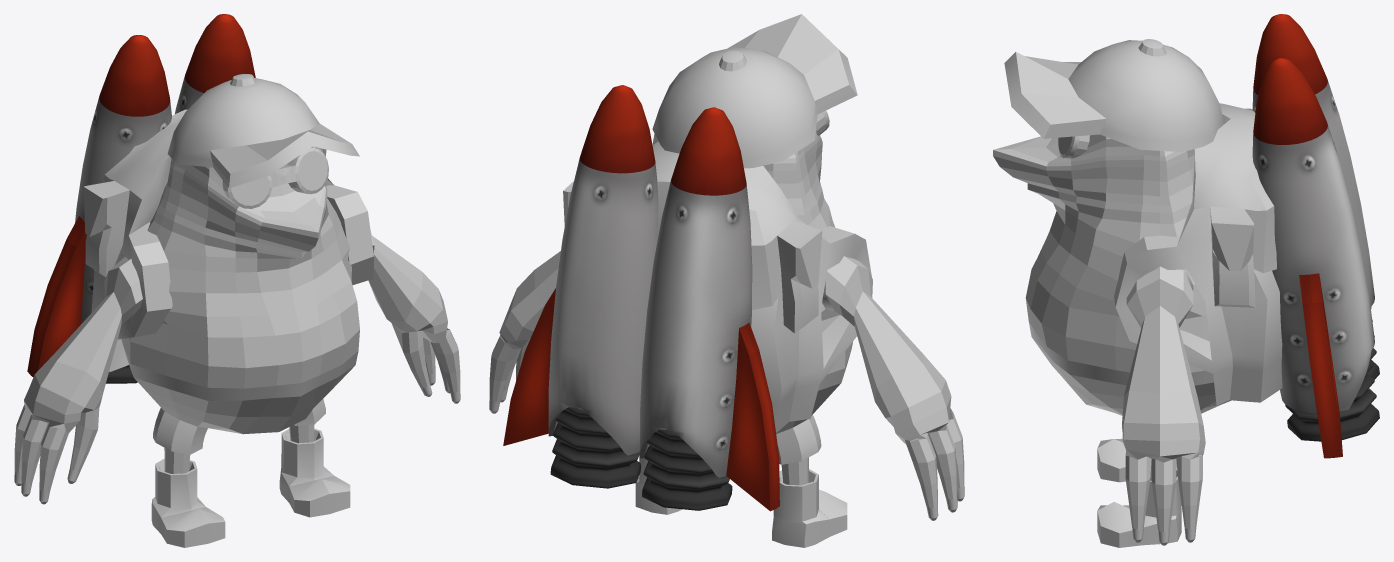
File: topo.FBX
The picture shows the model from 3 angles, left to right: view 1: azimuth 30°, elevation 25°; view 2: azimuth 150°, elevation 25°; view 3: azimuth 270°, elevation 25°; orthographic projection. The views are drawn at different scales.
Visible parts, largest first — view 1: Cylinder003, Hose001, Box001, Capsule002, Cylinder005; view 2: Hose001, Cylinder003, Box001, Capsule002; view 3: Cylinder003, Hose001, Box001, Capsule002, Cylinder005.
Boxes of the visible parts, box(x1,y1,x2,y2) form: Cylinder003: box(14, 146, 460, 547); Hose001: box(27, 14, 255, 383); Box001: box(83, 109, 373, 372); Capsule002: box(167, 74, 359, 188); Cylinder005: box(222, 147, 328, 208); Hose001: box(503, 85, 779, 511); Cylinder003: box(489, 131, 964, 547); Box001: box(563, 141, 871, 432); Capsule002: box(652, 14, 857, 168); Cylinder003: box(993, 134, 1231, 547); Hose001: box(1252, 14, 1379, 458); Box001: box(1114, 103, 1282, 405); Capsule002: box(1004, 39, 1223, 151); Cylinder005: box(1058, 135, 1089, 158).
Size of the model in its own units: 87.61 by 85.39 by 64.45.
